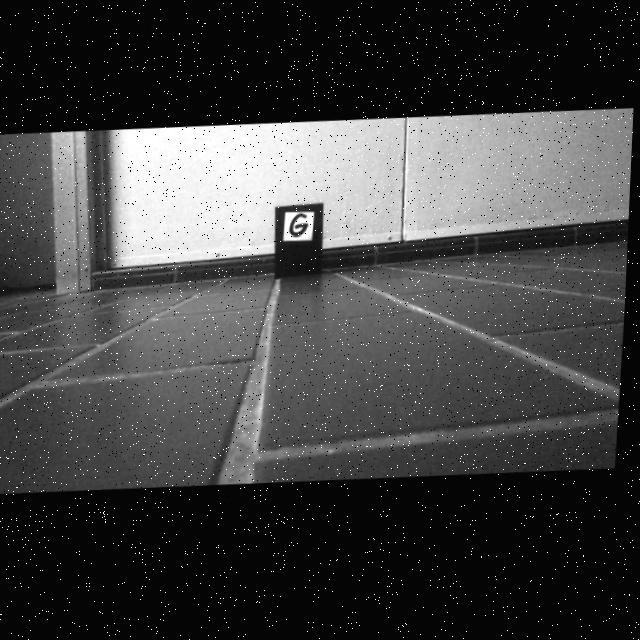G: (292, 218, 310, 240)
